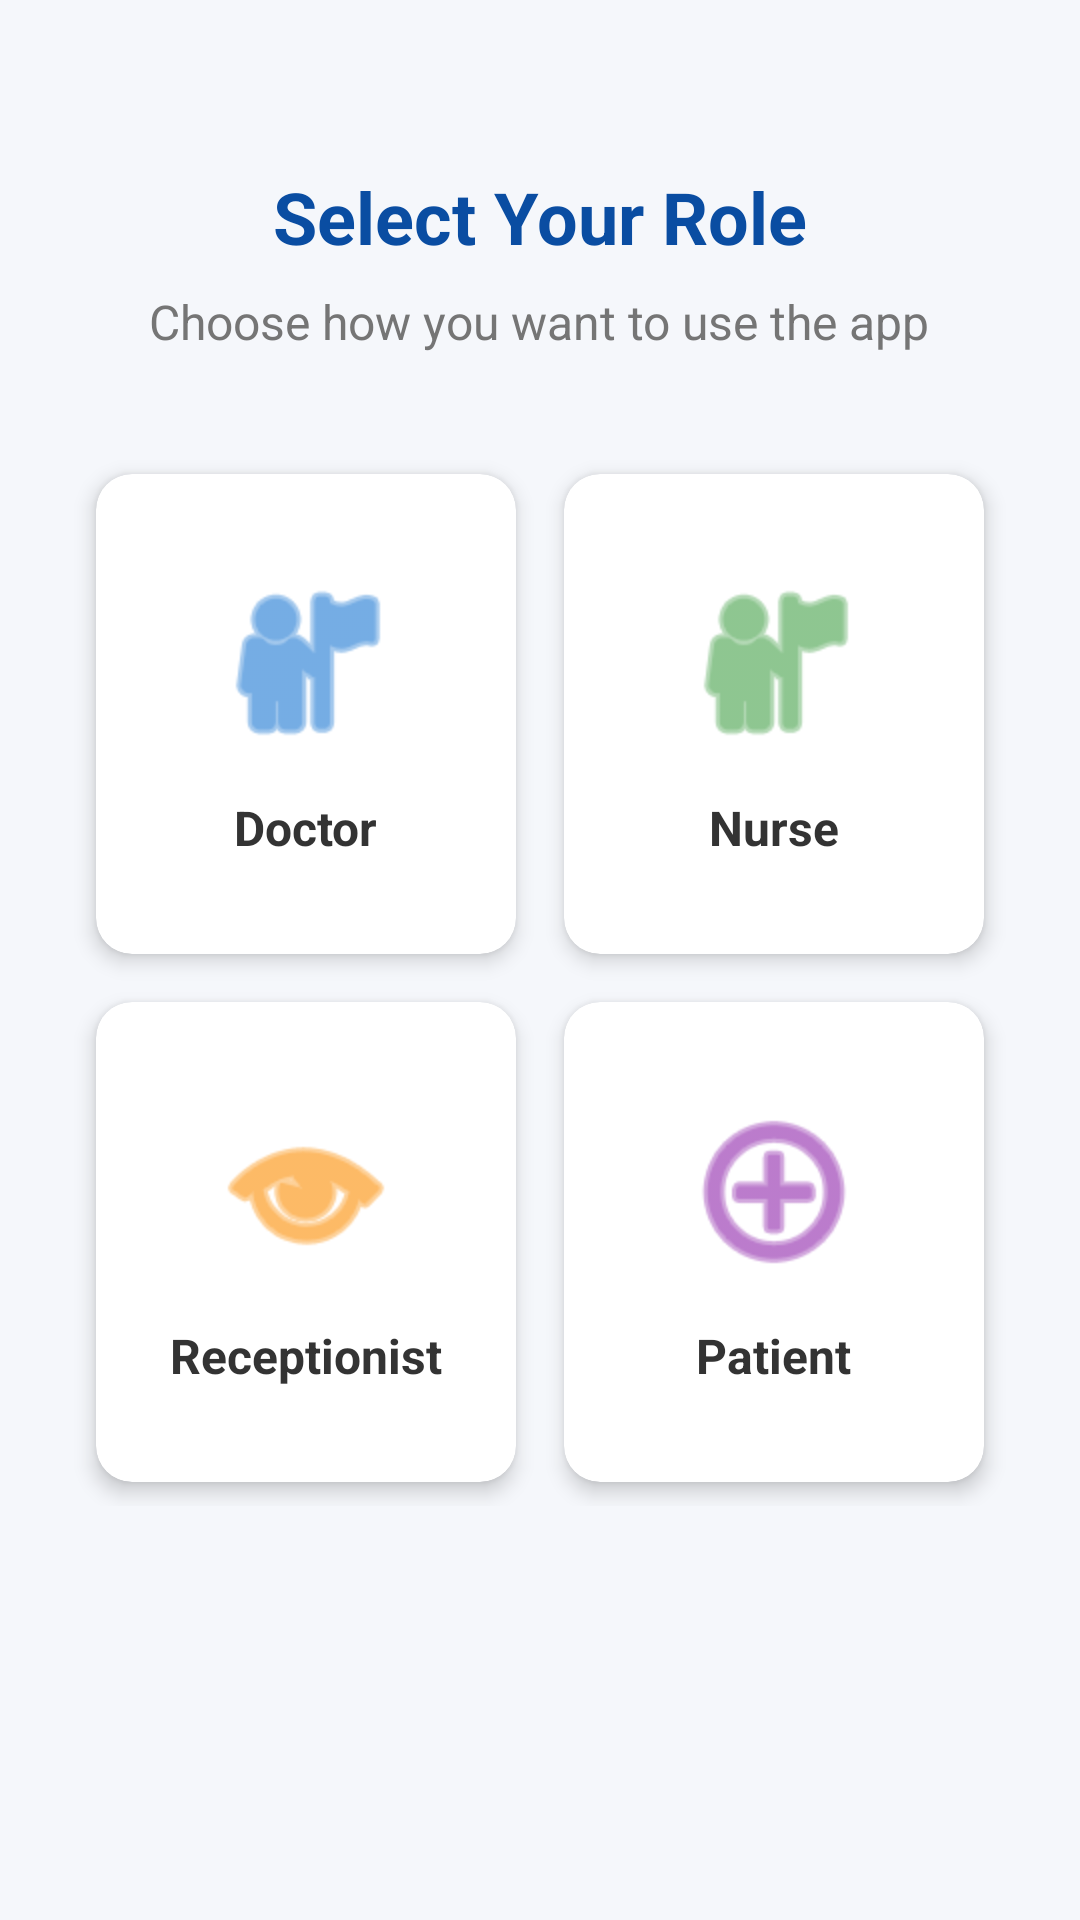

Screen size 1080 x 1920. Icon name, then its box in pixels as {"x1": x1, "y1": y1, "x2": x2, "y2": y2}:
add: {"x1": 703, "y1": 1121, "x2": 845, "y2": 1263}
view: {"x1": 228, "y1": 1147, "x2": 384, "y2": 1245}
